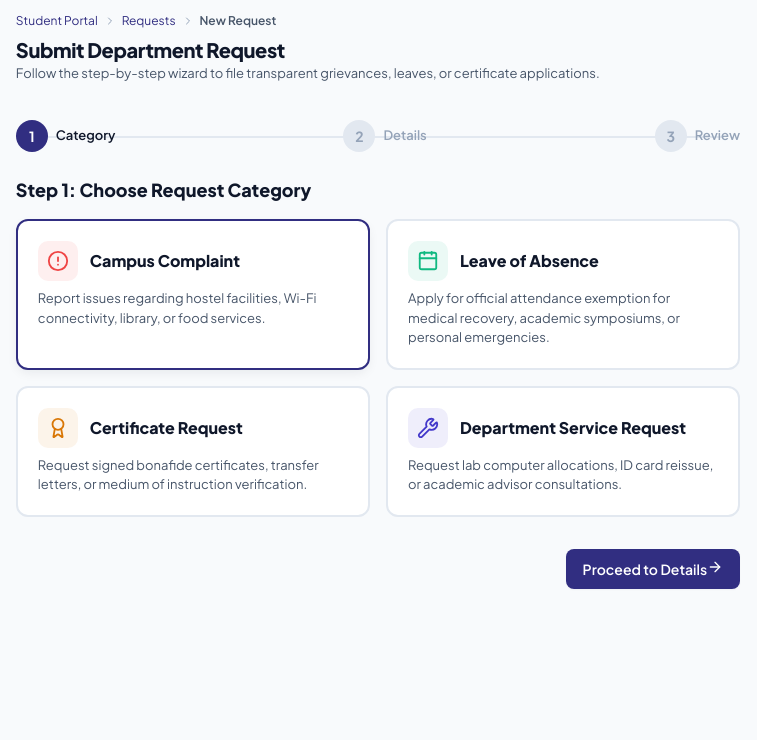
Test: NewRequestPage Wizard › navigates to Step 2 when category is selected and proceeded
This screenshot has width=757, height=740.
Click the button "Proceed to Details" at [653, 569], box [566,549,740,589]
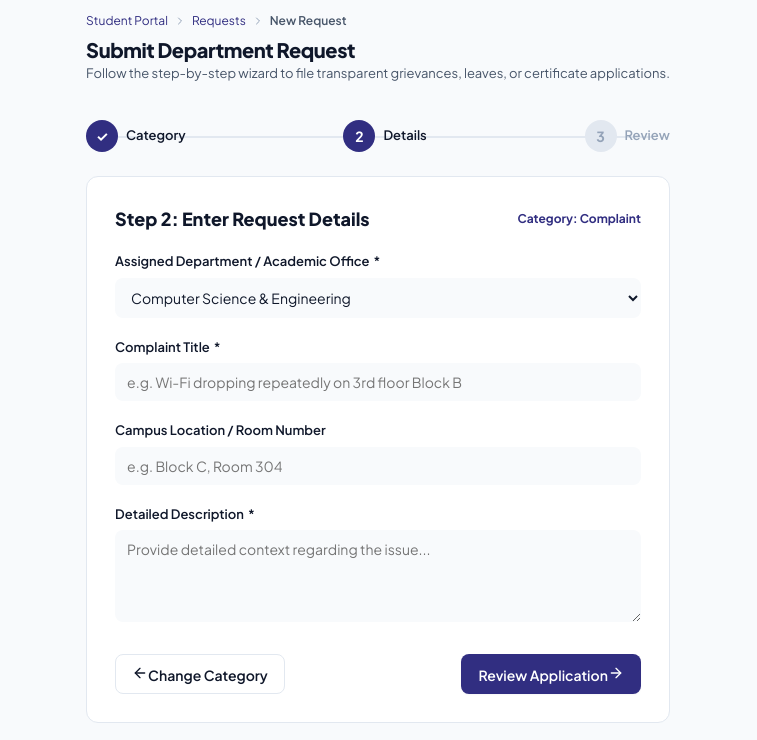
Check: the heading "Step 2: Enter Request Details" is shown, box [115,205,370,232]
